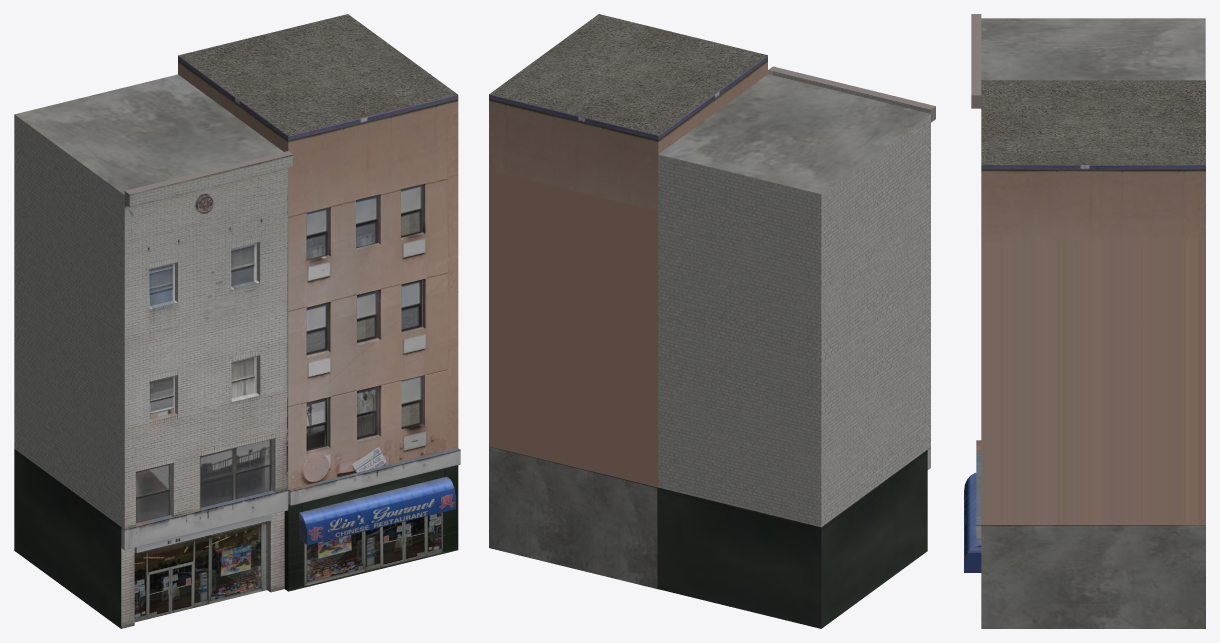
The model's file is nyc_bronx_buildings.glb.
The picture shows the model from 3 angles, left to right: view 1: azimuth 30°, elevation 25°; view 2: azimuth 150°, elevation 25°; view 3: azimuth 270°, elevation 25°; orthographic projection. The views are drawn at different scales.
Parts seen in each view (by area): view 1: mainer_2; view 2: mainer_2; view 3: mainer_2.
Part boxes in pixels (x1,y1,x2,y2): mainer_2: [14, 14, 460, 628]; mainer_2: [489, 14, 935, 628]; mainer_2: [964, 14, 1205, 628].
Size of the model in its own units: 68.38 by 89.22 by 42.12.
Materials: 1 (1 with a texture image).
